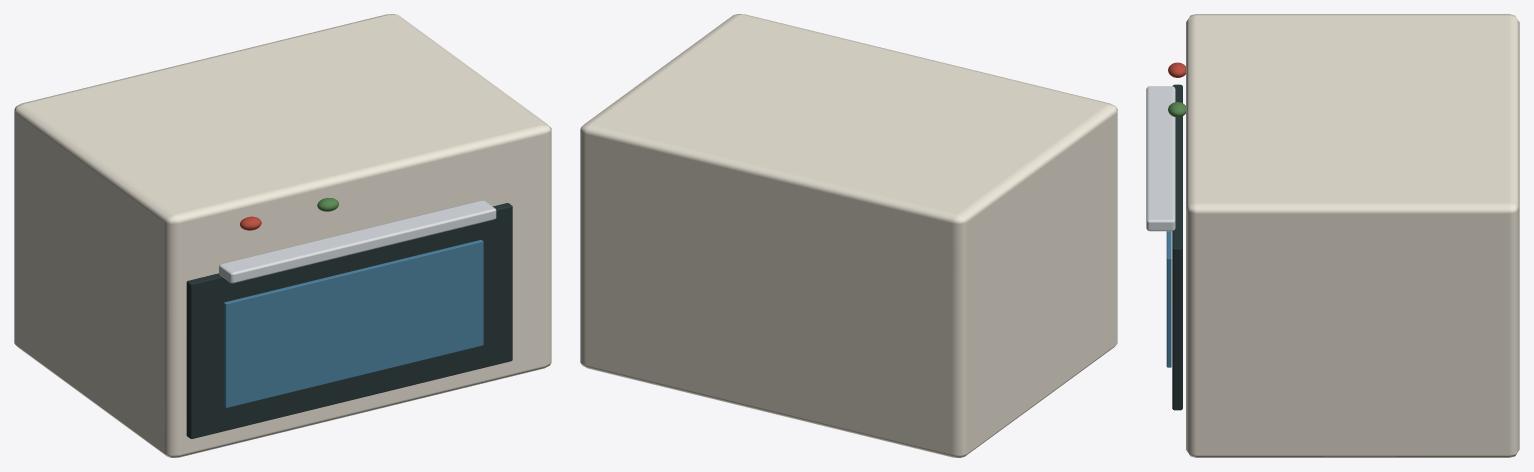
File: wp-micro-ondes.glb
3 views of the same model, side by side, from view 1: azimuth 30°, elevation 25°; view 2: azimuth 150°, elevation 25°; view 3: azimuth 270°, elevation 25° (orthographic). The views are drawn at different scales.
Visible parts, largest first — view 1: wp-micro-ondes; view 2: wp-micro-ondes; view 3: wp-micro-ondes.
Part boxes in pixels (bbox=[...]): wp-micro-ondes: bbox=[14, 14, 551, 457]; wp-micro-ondes: bbox=[580, 14, 1117, 457]; wp-micro-ondes: bbox=[1146, 14, 1519, 457].
Bounding box in the file's own units: 0.5 × 0.3 × 0.4.
